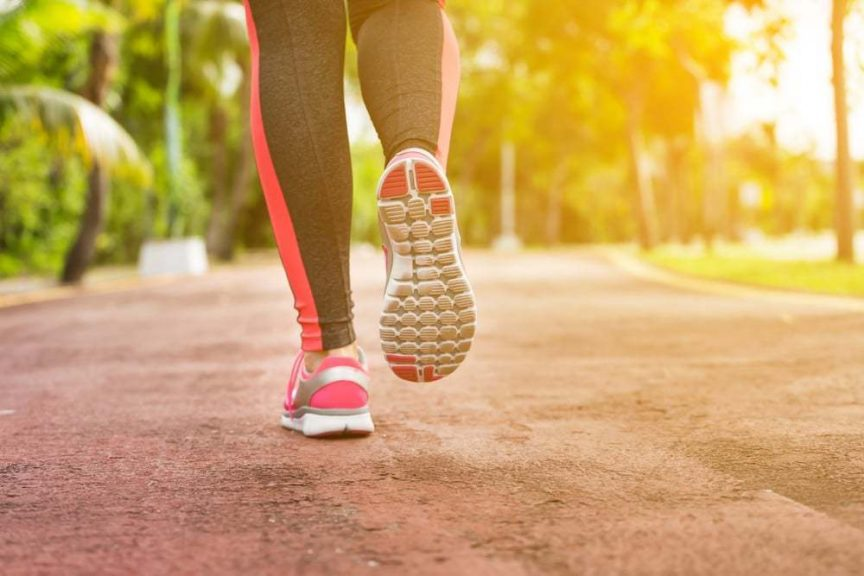feet: (225, 122, 497, 441)
